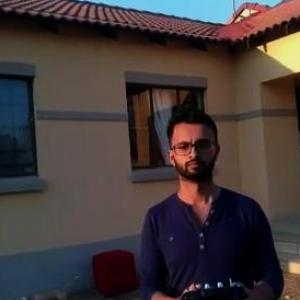follow: (135, 101, 290, 299)
null: (5, 269, 79, 299)
